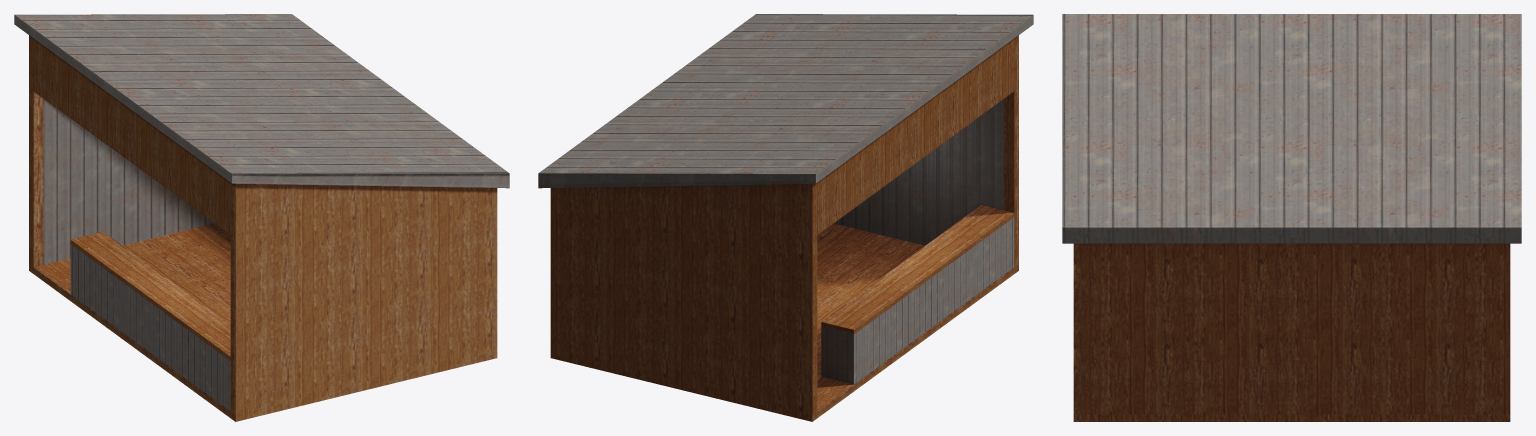
File: store_low_poly.glb
3 renders of one model, left to right at view 1: azimuth 30°, elevation 25°; view 2: azimuth 150°, elevation 25°; view 3: azimuth 270°, elevation 25°, orthographic. The views are drawn at different scales.
Parts seen in each view (by area): view 1: Shack-1.001_Baked_0; view 2: Shack-1.001_Baked_0; view 3: Shack-1.001_Baked_0.
Part boxes in pixels (bbox=[...]): Shack-1.001_Baked_0: bbox=[14, 14, 509, 421]; Shack-1.001_Baked_0: bbox=[538, 14, 1033, 421]; Shack-1.001_Baked_0: bbox=[1062, 14, 1521, 421].
Bounding box in the file's own units: 10.6 × 9.28 × 14.4.
1 material, 1 textured.
